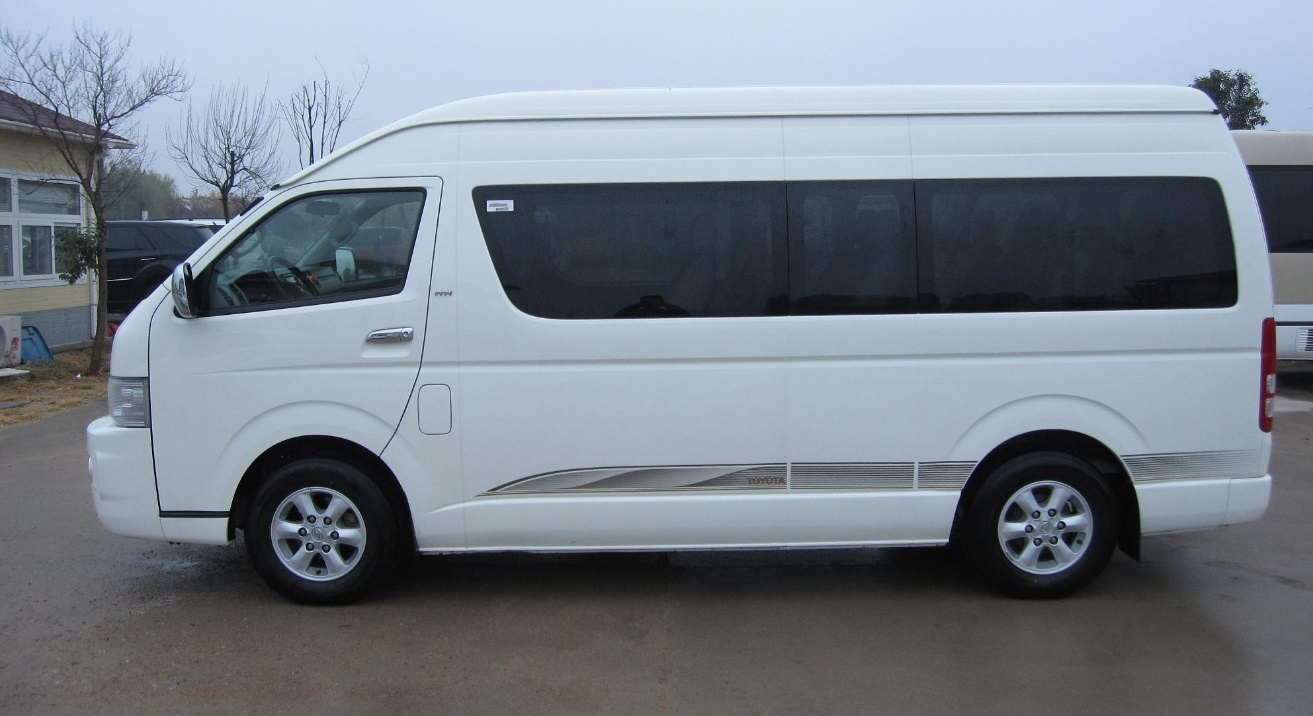minibus: (81, 64, 1287, 627)
